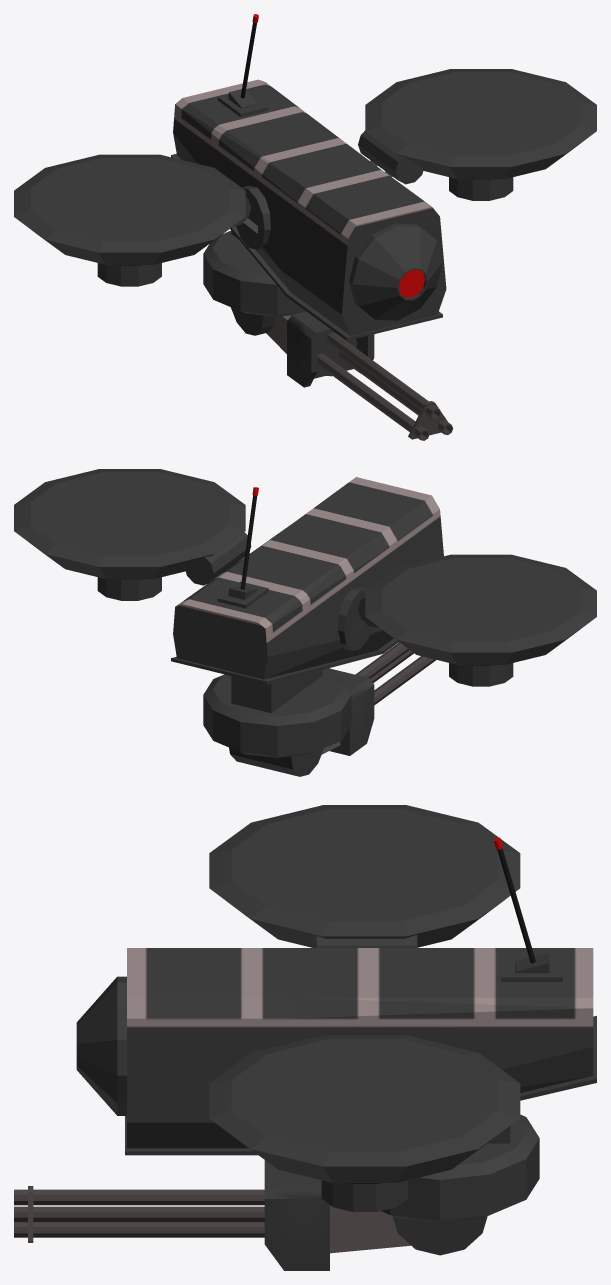
Rendered from Drone_Enemy.fbx.
3 renders of one model, top to bottom at view 1: azimuth 30°, elevation 25°; view 2: azimuth 150°, elevation 25°; view 3: azimuth 270°, elevation 25°, orthographic. The views are drawn at different scales.
Parts seen in each view (by area): view 1: Thruster (×2), Drone, Gun, Gun_Mount, Gun_Guard, Body_Anchor, Gun_Arm; view 2: Thruster (×2), Drone, Gun_Mount, Gun_Guard, Gun, Body_Anchor, Gun_Arm; view 3: Thruster (×2), Drone, Gun, Gun_Guard, Gun_Mount, Gun_Arm.
Part boxes in pixels (x1,y1,x2,y2): Thruster (×2): (14,69,596,286); Drone: (171,14,446,340); Gun: (316,331,453,440); Gun_Mount: (203,230,305,316); Gun_Guard: (266,311,374,387); Body_Anchor: (236,185,270,249); Gun_Arm: (231,307,275,335); Thruster (×2): (14,469,596,686); Drone: (171,477,443,713); Gun_Mount: (203,671,351,757); Gun_Guard: (322,668,374,755); Gun: (355,642,435,705); Body_Anchor: (338,587,372,651); Gun_Arm: (229,747,323,776); Thruster (×2): (209,805,520,1211); Drone: (76,837,596,1155); Gun: (14,1186,264,1242); Gun_Guard: (264,1160,410,1270); Gun_Mount: (381,1114,539,1222); Gun_Arm: (393,1216,487,1255).
Size of the model in its own units: 5.27 by 2.8 by 3.59.
